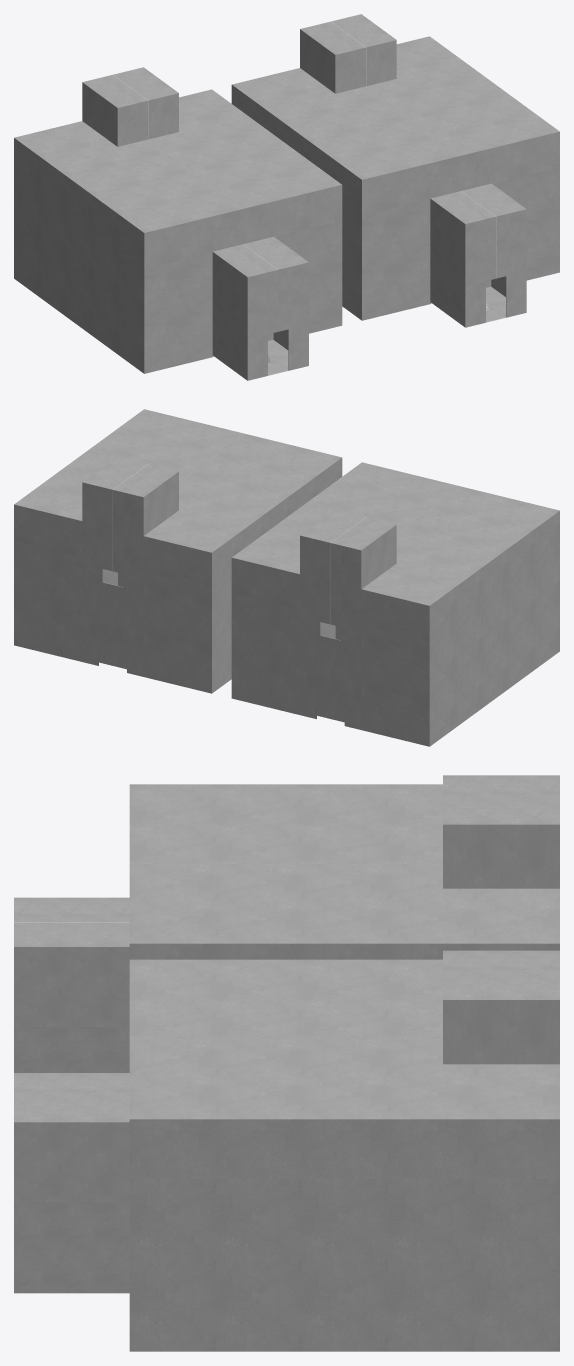
File: Building.fbx
3 renders of one model, top to bottom at view 1: azimuth 30°, elevation 25°; view 2: azimuth 150°, elevation 25°; view 3: azimuth 270°, elevation 25°, orthographic. The views are drawn at different scales.
Visible parts, largest first — view 1: Plane.010, Plane, Cube.001, Cube.003; view 2: Plane.010, Plane, Cube.003; view 3: Plane, Plane.010, Cube.001, Cube.003.
Boxes of the visible parts, bbox=[...] form: Plane.010: bbox=[14, 67, 342, 380]; Plane: bbox=[231, 36, 559, 320]; Cube.001: bbox=[430, 183, 526, 327]; Cube.003: bbox=[300, 14, 396, 93]; Plane.010: bbox=[231, 462, 559, 746]; Plane: bbox=[14, 409, 342, 693]; Cube.003: bbox=[82, 456, 178, 673]; Plane: bbox=[129, 959, 559, 1351]; Plane.010: bbox=[14, 775, 559, 1072]; Cube.001: bbox=[14, 1073, 129, 1293]; Cube.003: bbox=[443, 950, 559, 1064].
Bounding box in the file's own units: 21000 × 8675 × 14471.
